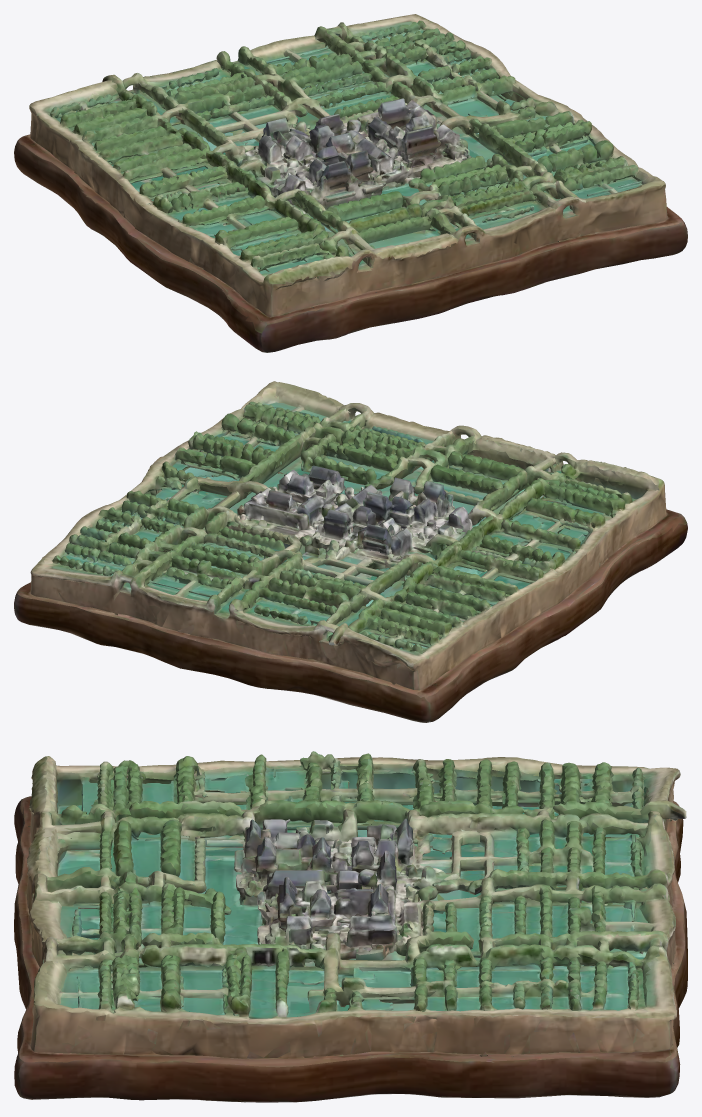
The model's file is sangji.min.glb.
The picture shows the model from 3 angles, top to bottom: view 1: azimuth 30°, elevation 25°; view 2: azimuth 150°, elevation 25°; view 3: azimuth 270°, elevation 25°; orthographic projection. The views are drawn at different scales.
Visible parts, largest first — view 1: geometry_0; view 2: geometry_0; view 3: geometry_0.
Part boxes in pixels (x1,y1,x2,y2): geometry_0: (14,14,687,352); geometry_0: (14,381,687,722); geometry_0: (14,751,687,1102).
Bounding box in the file's own units: 0.6 × 0.1131 × 0.6068.
Materials: 1 (1 with a texture image).
